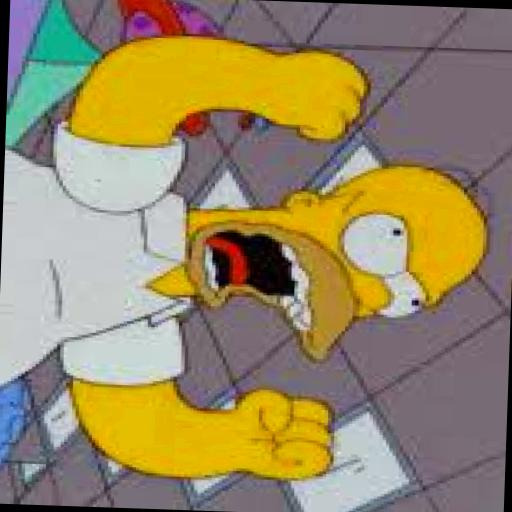Fist: (166, 365, 370, 505), (204, 36, 400, 168)
